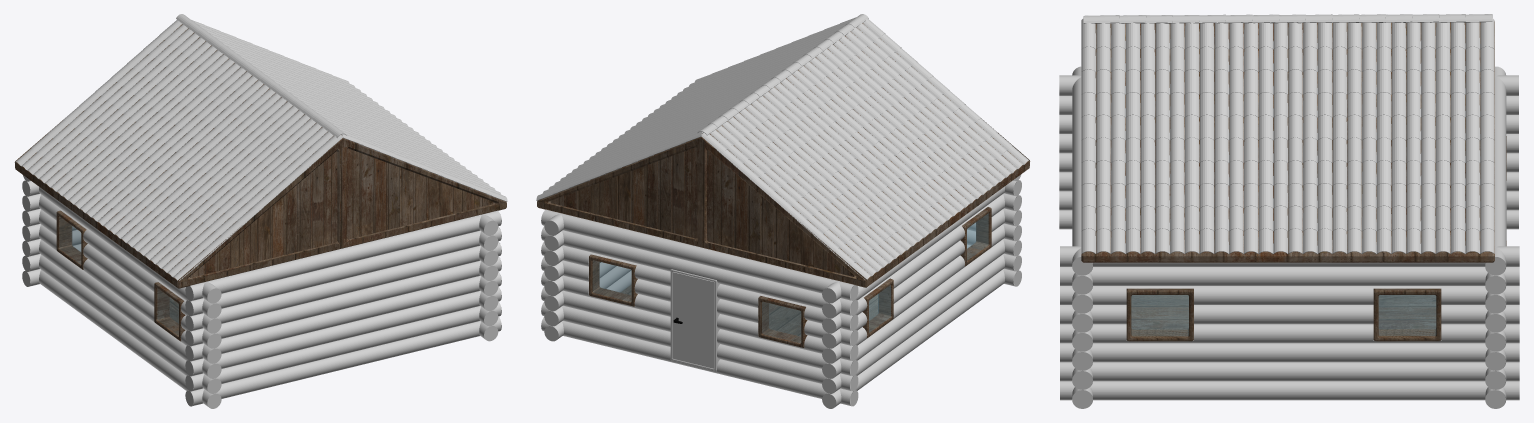
File: Wood House.fbx
3 views of the same model, side by side, from view 1: azimuth 30°, elevation 25°; view 2: azimuth 150°, elevation 25°; view 3: azimuth 270°, elevation 25° (orthographic). The views are drawn at different scales.
Parts seen in each view (by area): view 1: Cylinder.004, Cylinder.009, Cube.011, Cylinder.002, Cube.013, Cylinder.008, Cube.019, Cube.014, Cylinder.007, Cylinder.006; view 2: Cylinder.004, Cylinder.007, Cube.009, Cylinder.002, Cube.013, Cube.019, Cylinder.008, Cube.014, Cube.005, Cylinder.006, Cylinder.009, Cube.001 (+1 smaller); view 3: Cylinder.004, Cylinder.006, Cube.013, Cylinder.008, Cube.014, Cylinder.002, Cube.001, Cube.019, Cylinder.007, Cylinder.009.
Part boxes in pixels (bbox=[...]): Cylinder.004: bbox=[15, 14, 507, 281]; Cylinder.009: bbox=[188, 210, 501, 405]; Cube.011: bbox=[189, 145, 493, 277]; Cylinder.002: bbox=[39, 187, 217, 406]; Cube.013: bbox=[14, 24, 506, 288]; Cylinder.008: bbox=[22, 175, 501, 408]; Cube.019: bbox=[56, 210, 185, 341]; Cube.014: bbox=[59, 217, 178, 335]; Cylinder.007: bbox=[24, 180, 81, 286]; Cylinder.006: bbox=[479, 214, 494, 338]; Cylinder.004: bbox=[536, 14, 1029, 279]; Cylinder.007: bbox=[541, 209, 855, 406]; Cube.009: bbox=[550, 144, 854, 276]; Cylinder.002: bbox=[825, 186, 1004, 406]; Cube.013: bbox=[537, 23, 1030, 287]; Cube.019: bbox=[589, 207, 991, 347]; Cylinder.008: bbox=[544, 174, 1021, 408]; Cube.014: bbox=[593, 213, 988, 342]; Cube.005: bbox=[672, 272, 714, 368]; Cylinder.006: bbox=[547, 213, 631, 339]; Cylinder.009: bbox=[967, 179, 1018, 286]; Cube.001: bbox=[621, 285, 877, 336]; Cylinder.004: bbox=[1081, 14, 1494, 253]; Cylinder.006: bbox=[1060, 246, 1519, 400]; Cube.013: bbox=[1081, 21, 1494, 262]; Cylinder.008: bbox=[1072, 67, 1505, 408]; Cube.014: bbox=[1131, 295, 1436, 335]; Cylinder.002: bbox=[1059, 75, 1518, 229]; Cube.001: bbox=[1131, 295, 1436, 328]; Cube.019: bbox=[1126, 136, 1506, 341]; Cylinder.007: bbox=[1485, 66, 1506, 408]; Cylinder.009: bbox=[1072, 66, 1092, 406].
Bounding box in the file's own units: 784 × 533 × 745.
